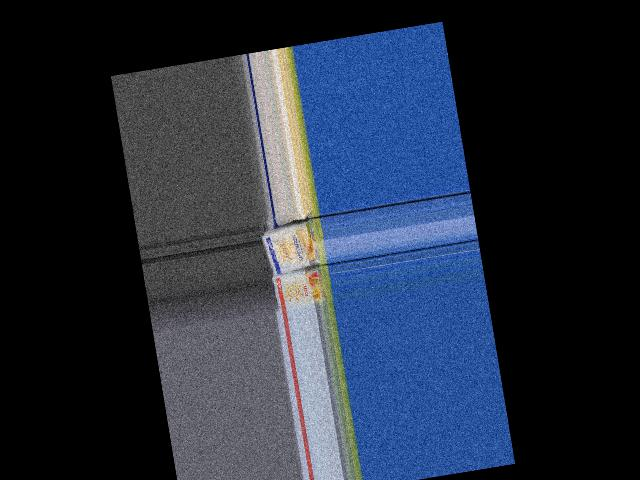cheese: (269, 266, 334, 314)
